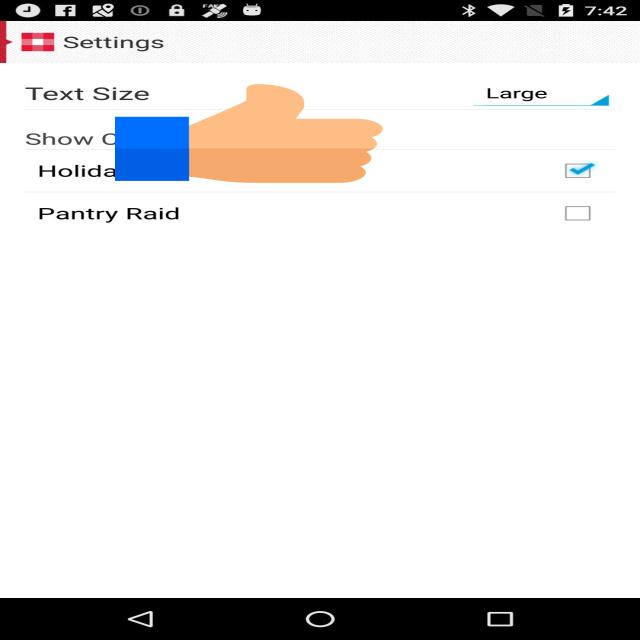privacy zuckering: (115, 82, 383, 185)
